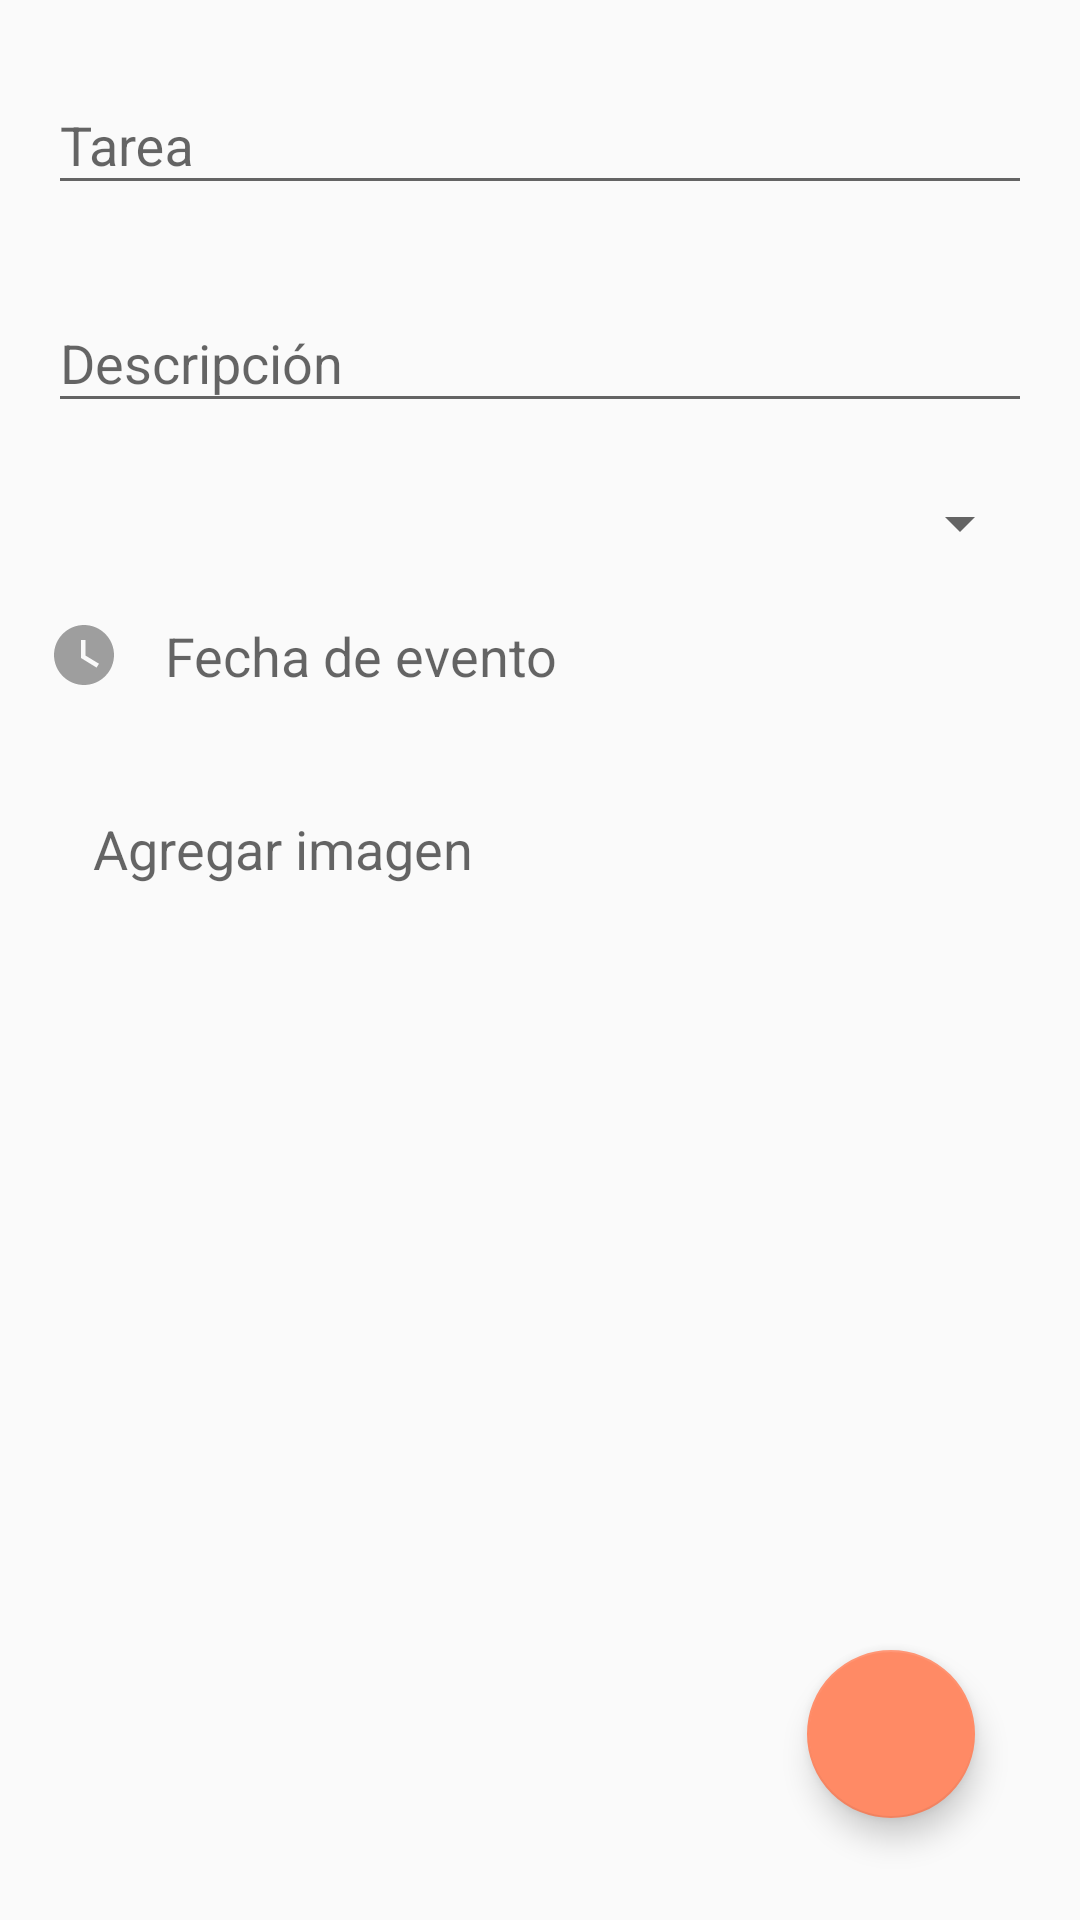

Icon bounding boxes for this 1080 × 1920 phone screenshot, format (left=x1, top=y1, right=x2, bottom=y2):
watch later: (left=54, top=625, right=114, bottom=685)
